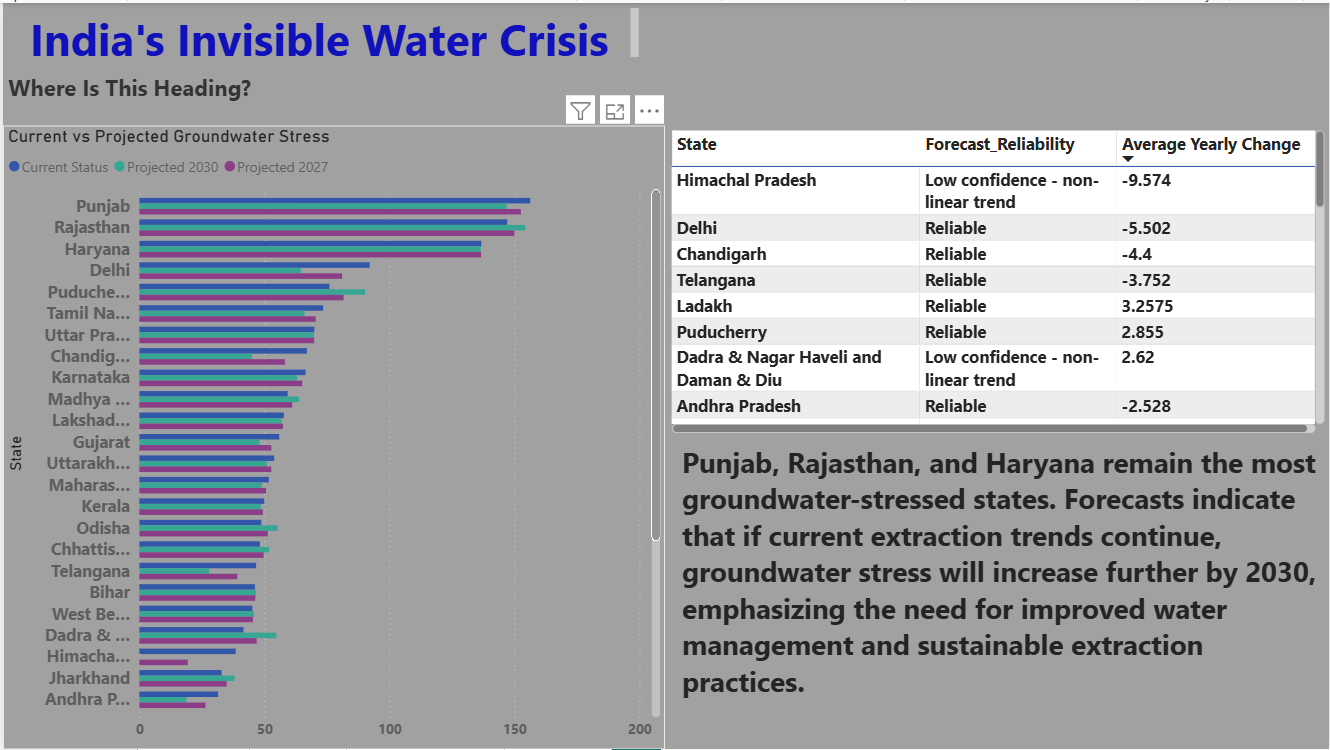

The page's visual inventory and layout, read from the dashboard file:
{"tool":"powerbi","page":{"name":"Forecast","canvas":[1280,720],"ordinal":3},"visuals":[{"type":"textbox","box":[0,0,618.6,61.4],"z":0},{"type":"textbox","box":[0,61.4,1087.1,42.9],"z":1000},{"type":"clusteredBarChart","title":"Current vs Projected Groundwater Stress","fields":{"Category":["Forecast.State"],"Y":["Sum(Forecast. Current Status)","Sum(Forecast.Projected 2030)","Sum(Forecast.Projected 2027)"]},"box":[0,118,639.4,602.1],"z":2000},{"type":"tableEx","fields":{"Values":["Forecast.State","Forecast.Forecast_Reliability","Forecast.Avg Yearly Change"]},"box":[639.4,118,640.9,301.8],"z":3000},{"type":"textbox","box":[649.9,419.8,630.4,300.3],"z":4000}]}

Visuals, with their boxes in screenshot pixels (x1, y1, x2, y2), scaled from the page's 1280x720 canvas onto the 1330x750 screenshot:
textbox: <region>0, 0, 643, 64</region>
textbox: <region>0, 64, 1130, 109</region>
"Current vs Projected Groundwater Stress" clusteredBarChart: <region>0, 123, 664, 749</region>
tableEx - Forecast.State x Forecast.Forecast_Reliability: <region>664, 123, 1329, 437</region>
textbox: <region>675, 437, 1329, 749</region>
